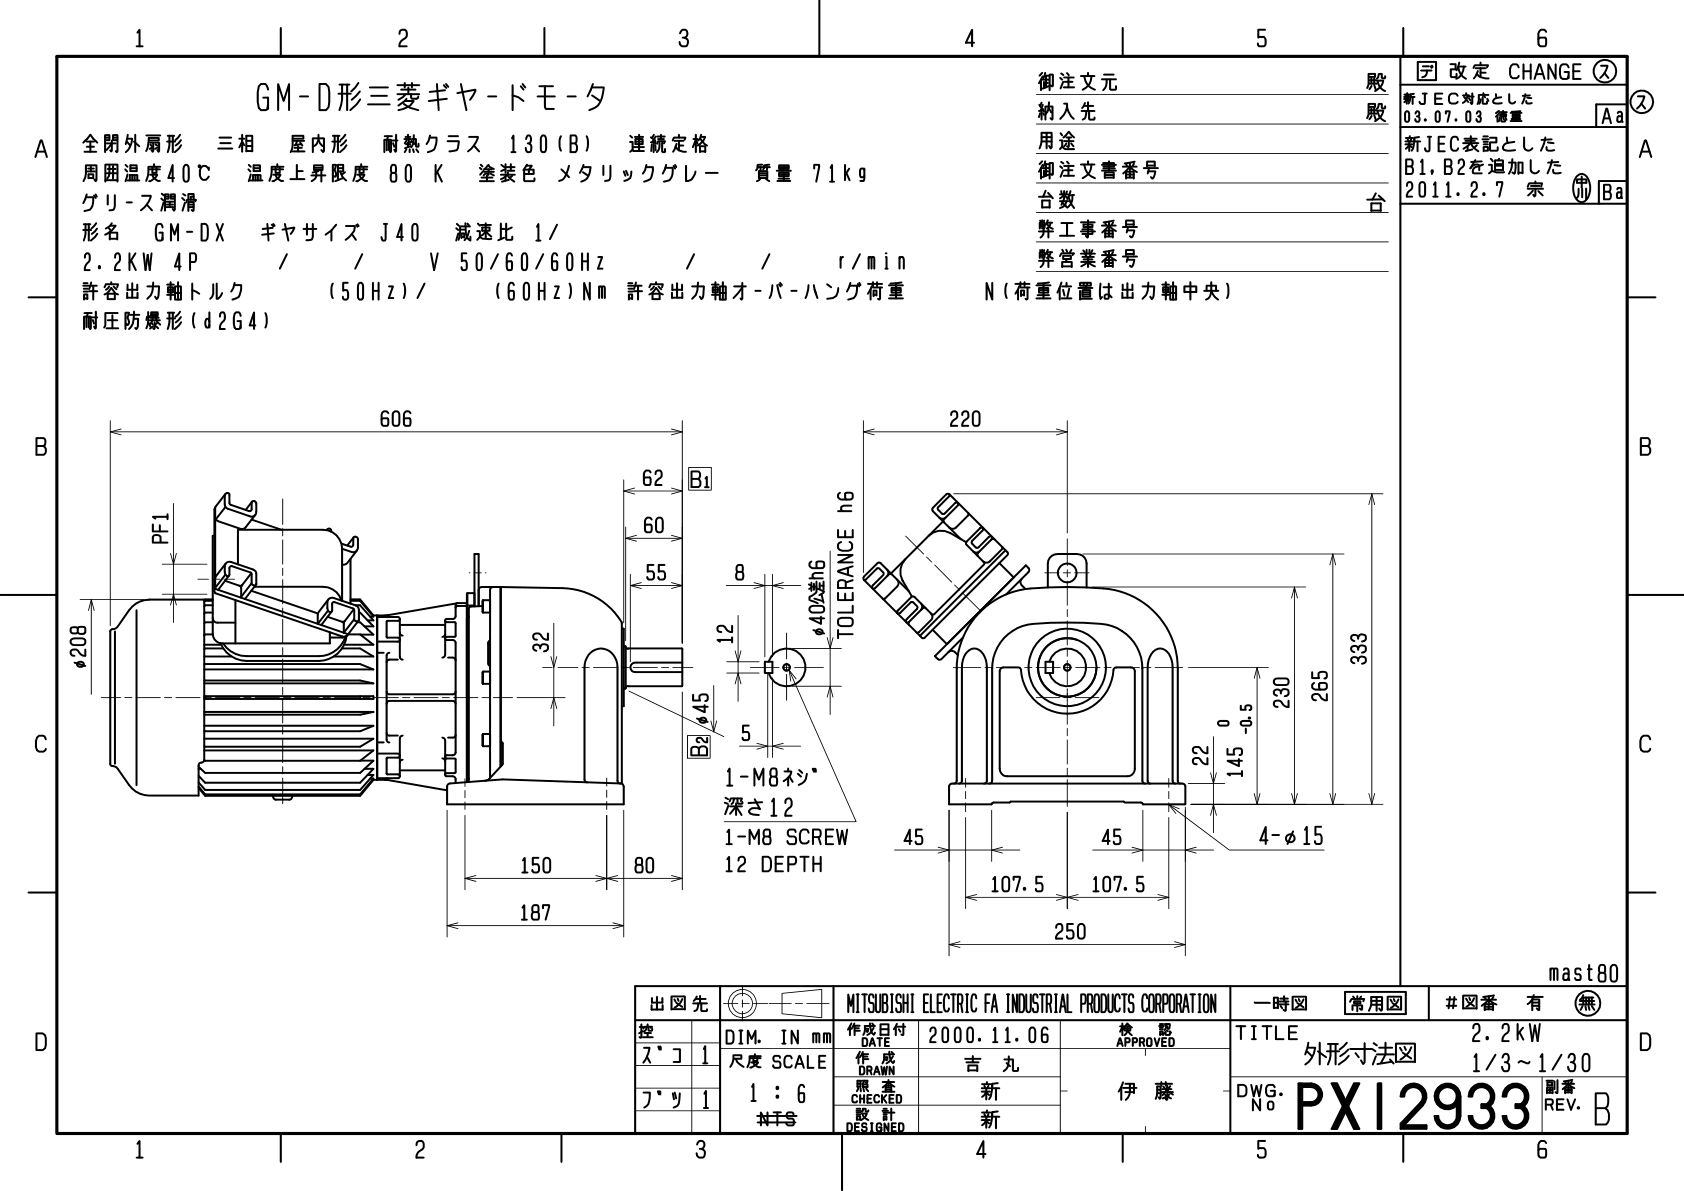GM_D_耐圧屋内_三相_脚: (17, 13, 1684, 1178)
